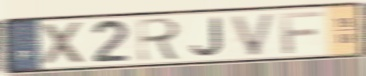2: (90, 18, 134, 65)
F: (279, 9, 325, 55)
J: (189, 15, 226, 58)
R: (135, 16, 183, 63)
V: (229, 11, 279, 58)
X: (39, 19, 87, 68)
